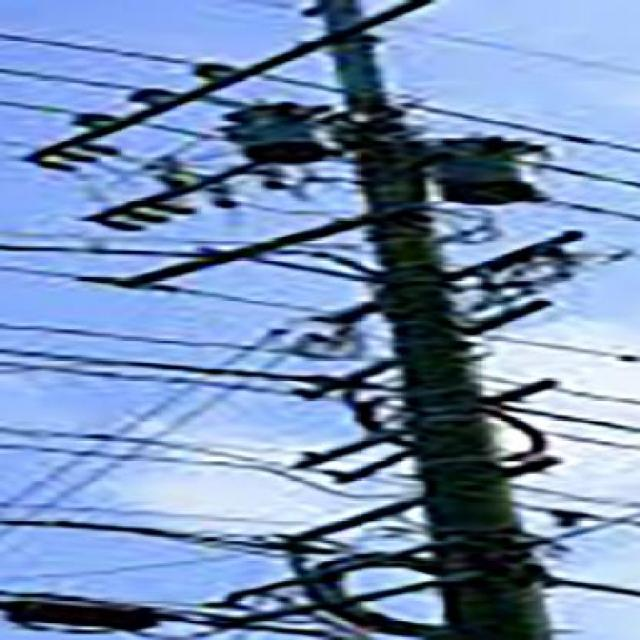pole: (16, 3, 630, 634)
